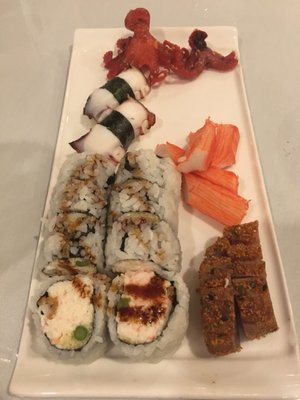pizza: (183, 168, 250, 226)
